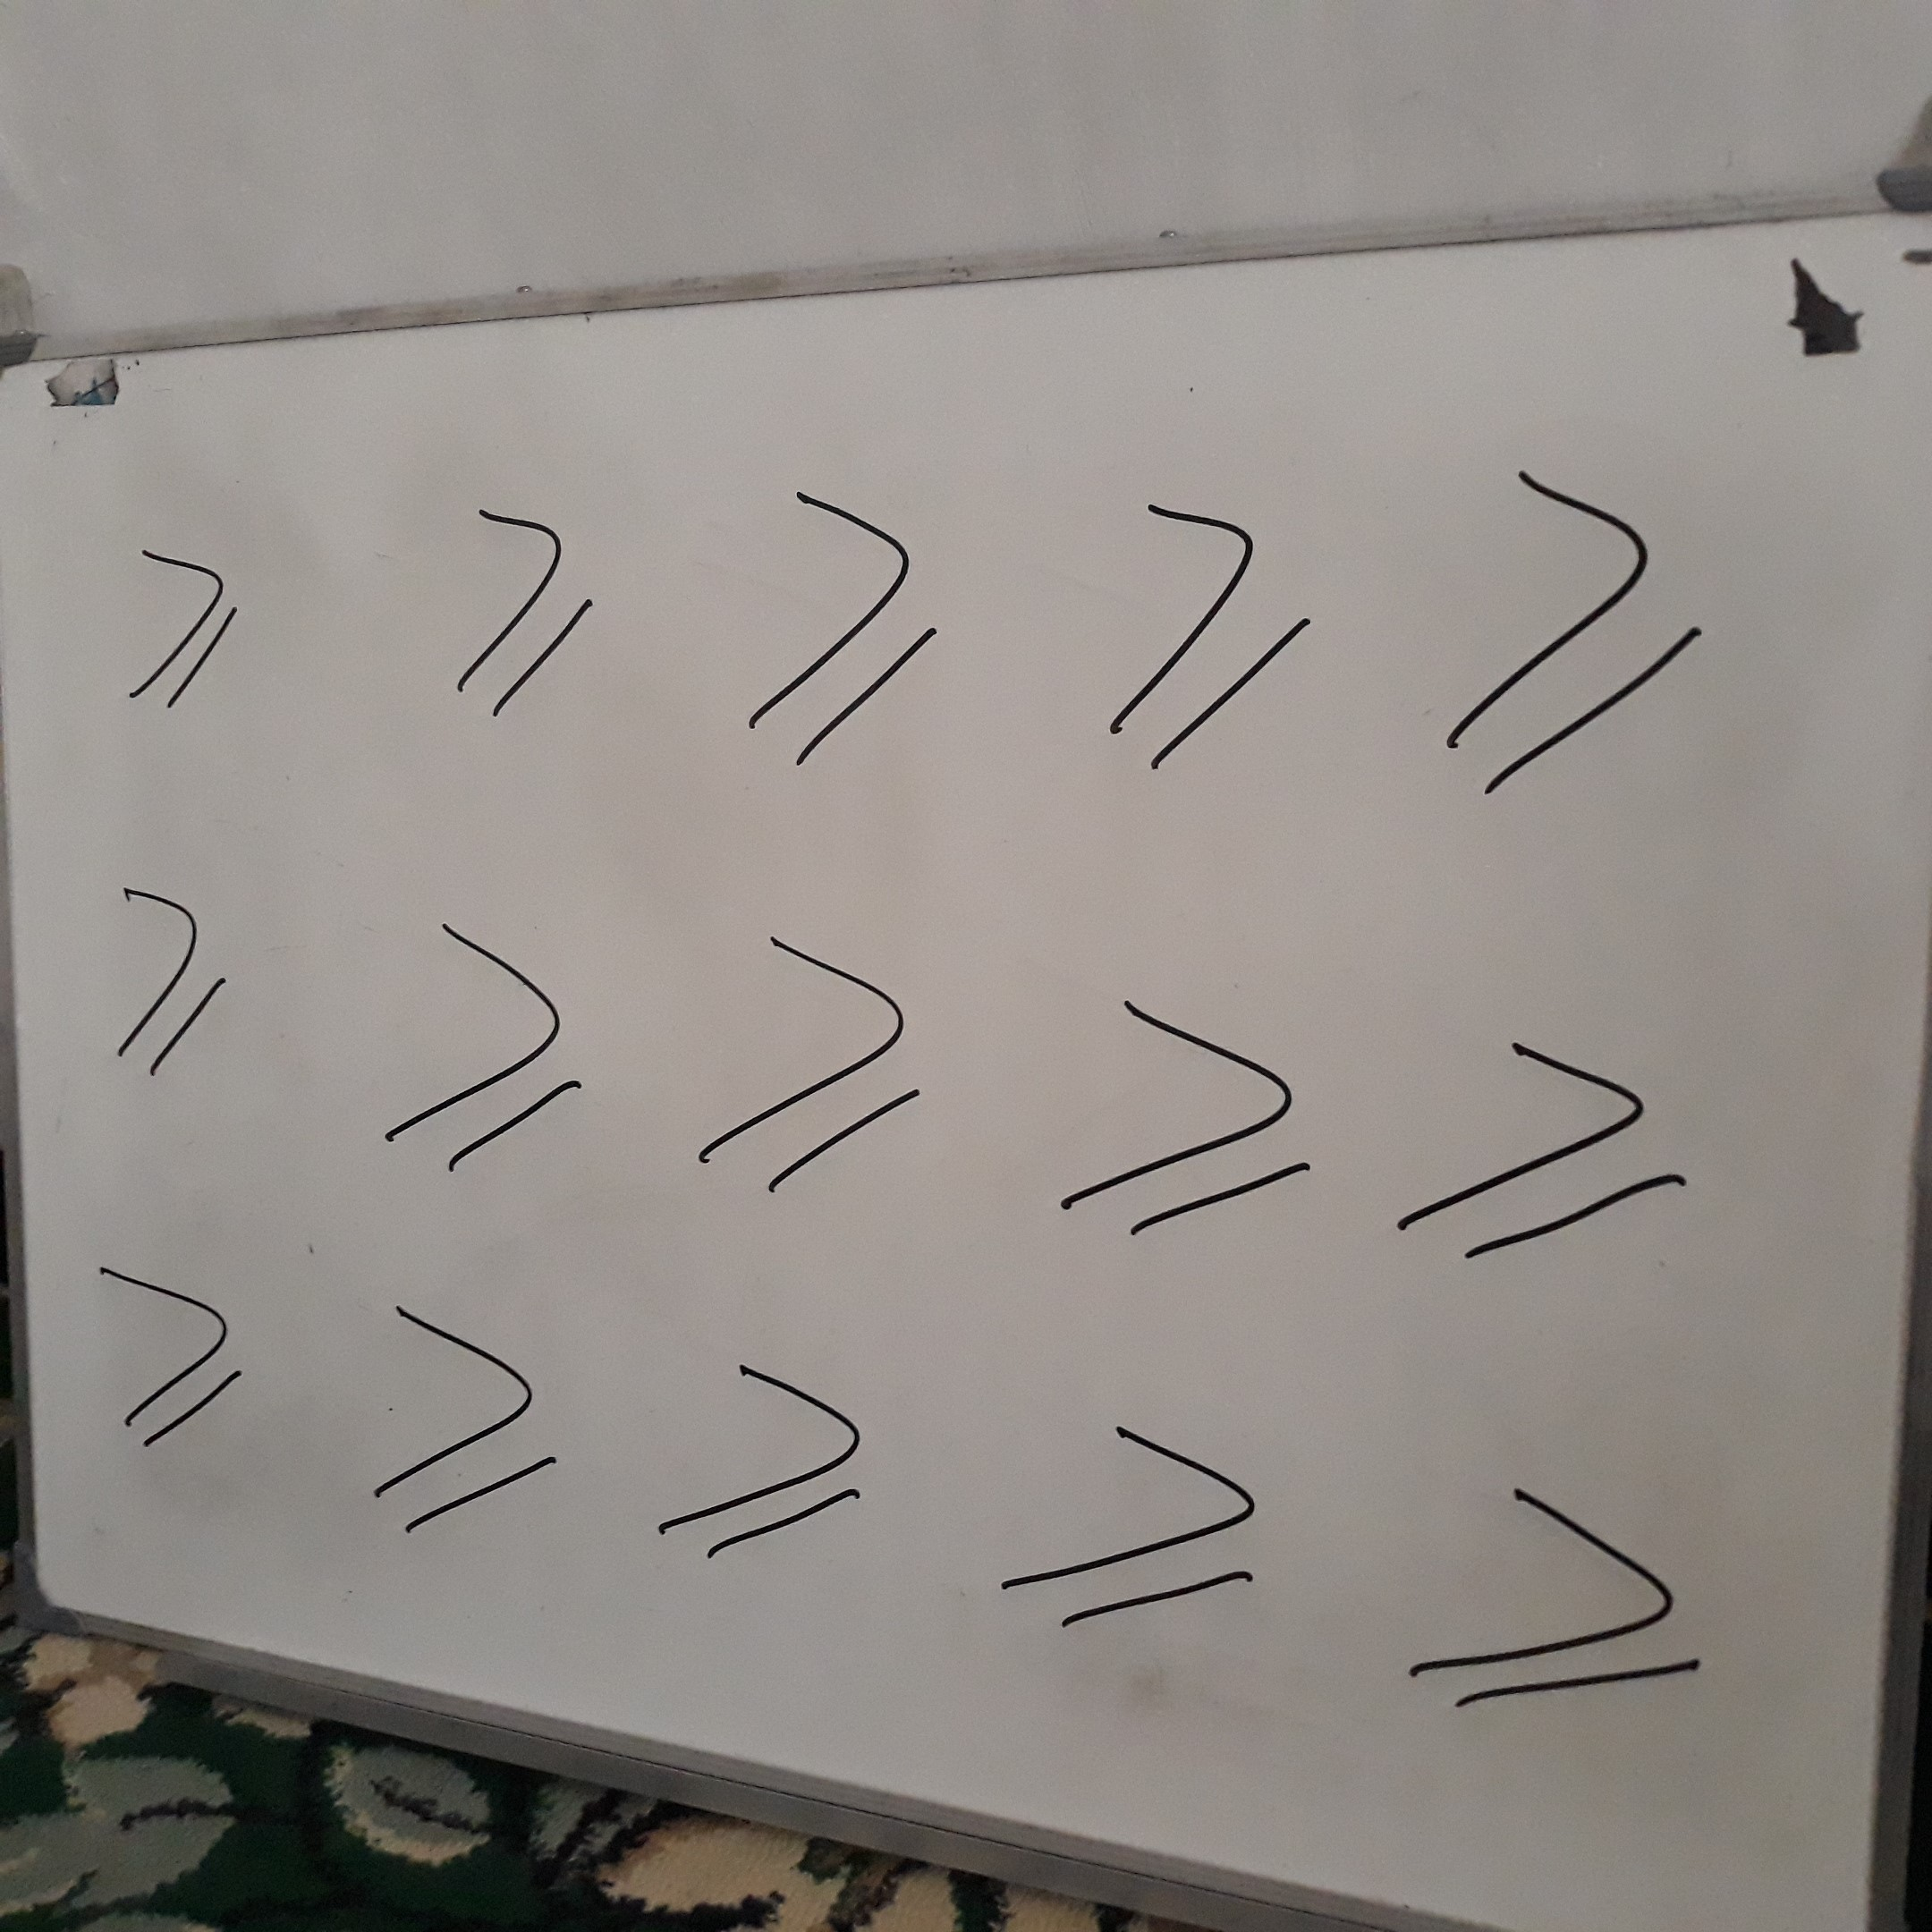morethan-equal: (1435, 458, 1718, 806), (1383, 1015, 1718, 1279), (966, 1393, 1290, 1648), (1393, 1475, 1716, 1731), (676, 919, 949, 1207), (1046, 964, 1319, 1251), (1096, 467, 1321, 782), (734, 469, 960, 784), (367, 901, 597, 1182), (357, 1285, 572, 1555), (651, 1335, 887, 1575), (77, 1230, 259, 1460), (445, 495, 617, 733), (90, 867, 253, 1089), (108, 526, 256, 732)
